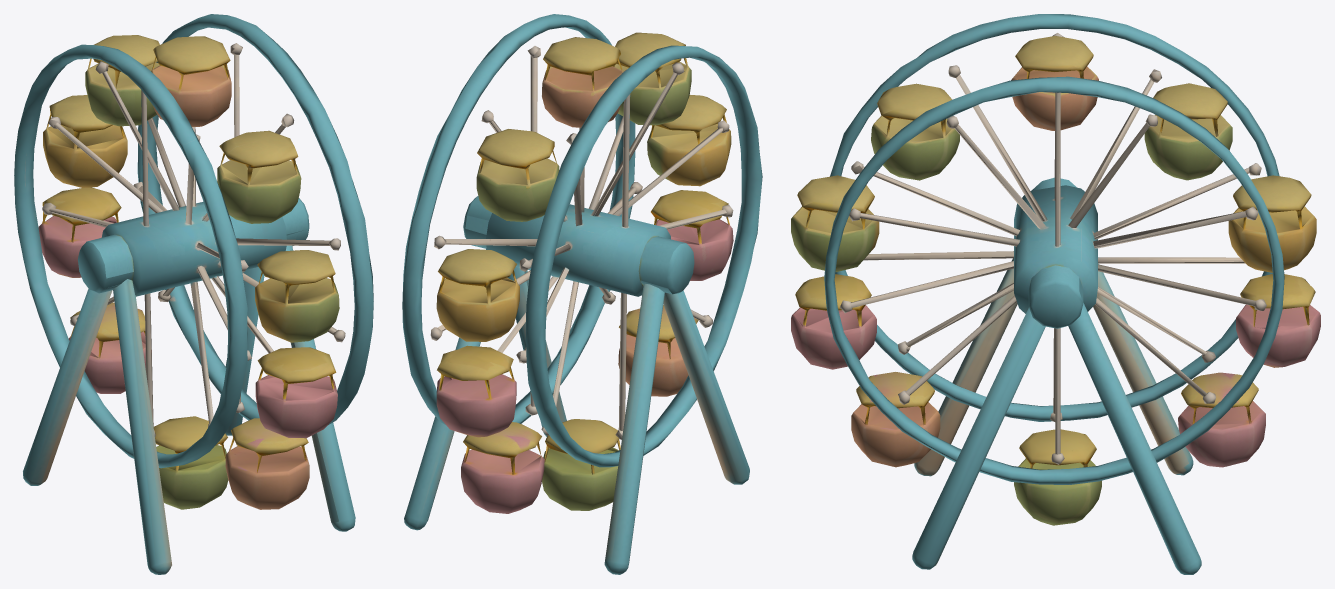
The model's file is tripo_convert_86f70cf5-45d6-4609-9718-c420423c36a3.fbx.
The picture shows the model from 3 angles, left to right: view 1: azimuth 30°, elevation 25°; view 2: azimuth 150°, elevation 25°; view 3: azimuth 270°, elevation 25°; orthographic projection. The views are drawn at different scales.
Parts seen in each view (by area): view 1: tripo_part_7, tripo_part_8, tripo_part_10, tripo_part_5, tripo_part_1, tripo_part_4, tripo_part_0, tripo_part_22, tripo_part_17, tripo_part_2, tripo_part_19, tripo_part_14 (+13 smaller); view 2: tripo_part_7, tripo_part_8, tripo_part_10, tripo_part_17, tripo_part_22, tripo_part_1, tripo_part_5, tripo_part_4, tripo_part_19, tripo_part_0, tripo_part_21, tripo_part_24 (+13 smaller); view 3: tripo_part_8, tripo_part_10, tripo_part_7, tripo_part_16, tripo_part_1, tripo_part_4, tripo_part_22, tripo_part_6, tripo_part_19, tripo_part_0, tripo_part_5, tripo_part_17 (+12 smaller).
Part boxes in pixels (x1=…): tripo_part_7: x1=14, y1=44, x2=251, y2=468; tripo_part_8: x1=133, y1=14, x2=373, y2=522; tripo_part_10: x1=55, y1=54, x2=330, y2=416; tripo_part_5: x1=113, y1=279, x2=213, y2=574; tripo_part_1: x1=198, y1=250, x2=339, y2=342; tripo_part_4: x1=197, y1=118, x2=301, y2=257; tripo_part_0: x1=255, y1=347, x2=337, y2=438; tripo_part_22: x1=43, y1=95, x2=142, y2=226; tripo_part_17: x1=23, y1=289, x2=112, y2=485; tripo_part_2: x1=225, y1=446, x2=309, y2=509; tripo_part_19: x1=54, y1=58, x2=195, y2=211; tripo_part_14: x1=156, y1=445, x2=228, y2=509; tripo_part_7: x1=520, y1=45, x2=762, y2=467; tripo_part_8: x1=402, y1=14, x2=642, y2=425; tripo_part_10: x1=438, y1=56, x2=722, y2=406; tripo_part_17: x1=604, y1=284, x2=664, y2=574; tripo_part_22: x1=436, y1=249, x2=568, y2=351; tripo_part_1: x1=607, y1=95, x2=731, y2=227; tripo_part_5: x1=663, y1=290, x2=749, y2=484; tripo_part_4: x1=579, y1=32, x2=722, y2=215; tripo_part_19: x1=445, y1=120, x2=582, y2=264; tripo_part_0: x1=651, y1=190, x2=733, y2=280; tripo_part_21: x1=461, y1=449, x2=544, y2=513; tripo_part_24: x1=436, y1=374, x2=516, y2=437; tripo_part_8: x1=824, y1=76, x2=1284, y2=484; tripo_part_10: x1=859, y1=82, x2=1251, y2=454; tripo_part_7: x1=830, y1=14, x2=1279, y2=421; tripo_part_16: x1=1068, y1=302, x2=1206, y2=574; tripo_part_1: x1=791, y1=165, x2=1013, y2=307; tripo_part_4: x1=862, y1=74, x2=1046, y2=234; tripo_part_22: x1=1098, y1=163, x2=1316, y2=306; tripo_part_6: x1=912, y1=307, x2=1045, y2=569; tripo_part_19: x1=1068, y1=79, x2=1249, y2=246; tripo_part_0: x1=791, y1=274, x2=876, y2=369; tripo_part_5: x1=905, y1=258, x2=1017, y2=476; tripo_part_17: x1=1093, y1=263, x2=1193, y2=475.
Bounding box in the file's own units: 0.4951 × 0.9922 × 1.
Materials: 25 (25 with a texture image).
